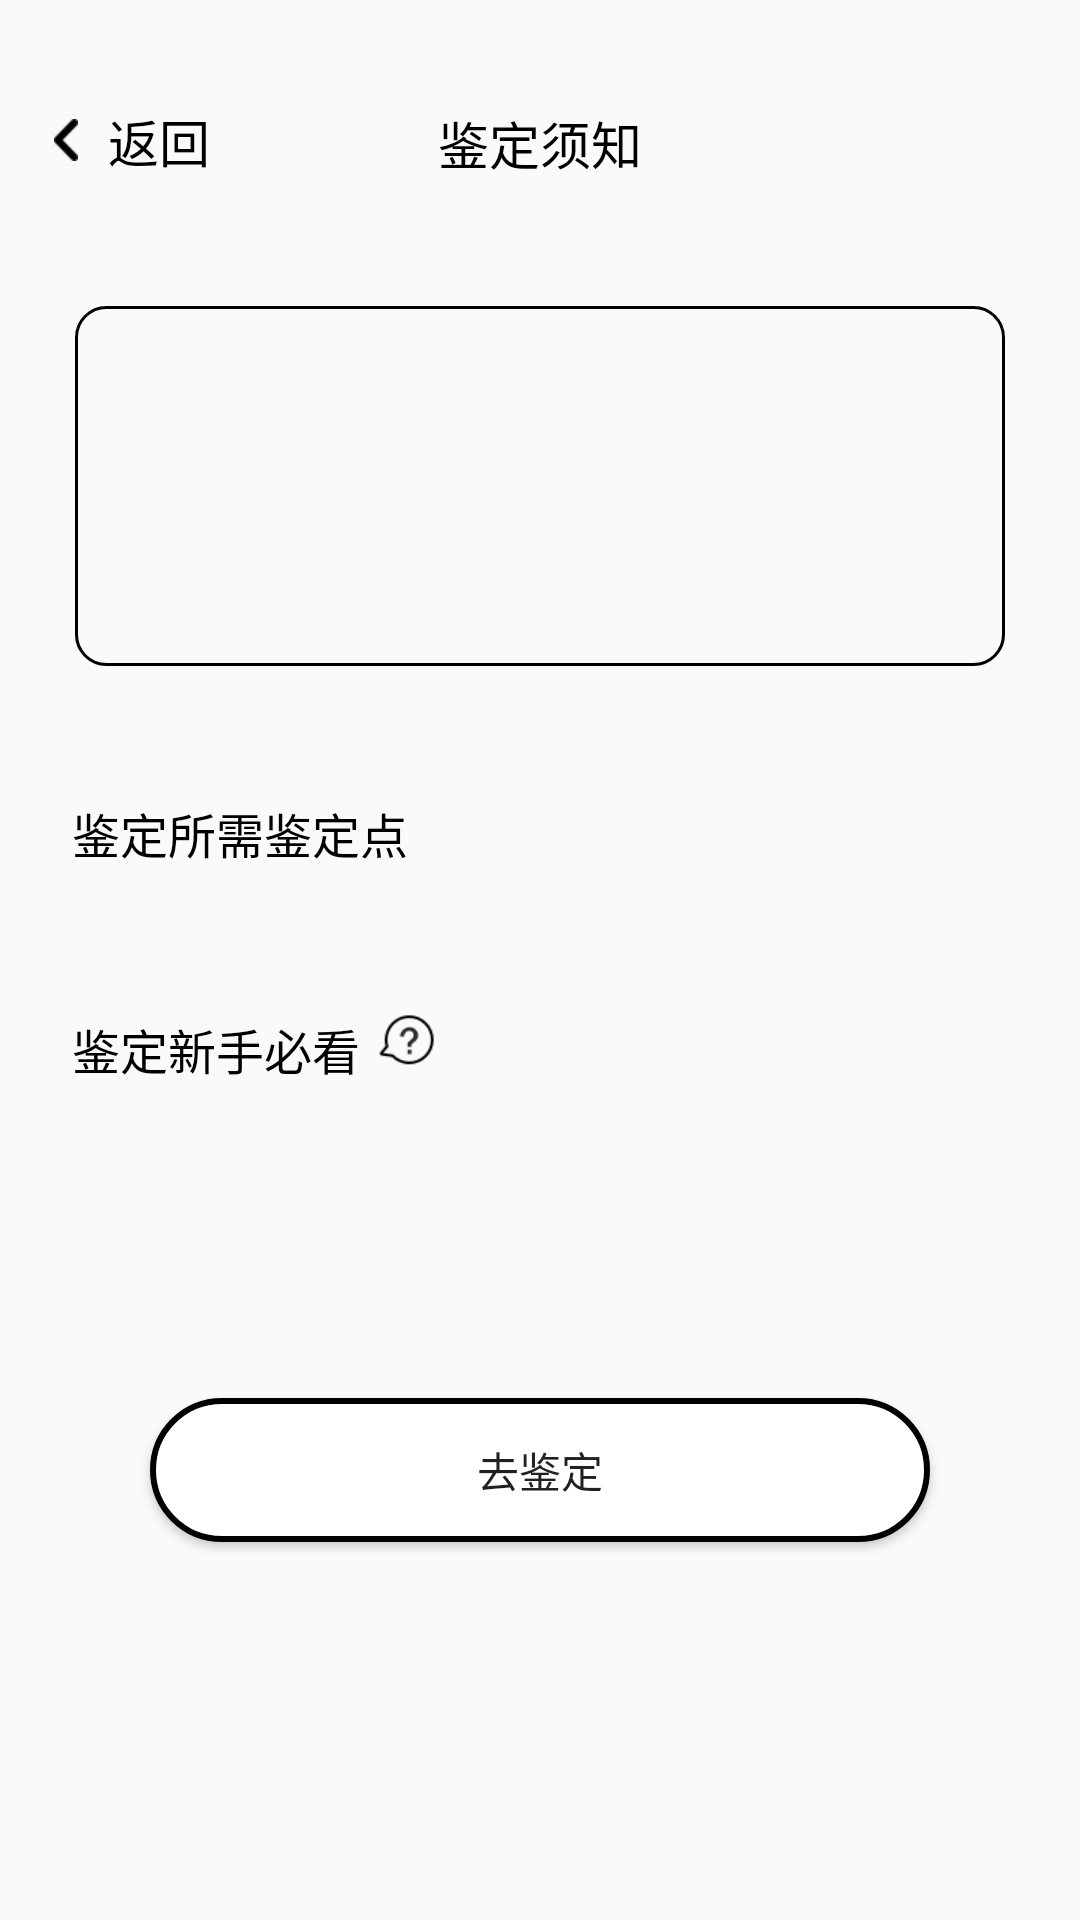

Where icons sit on this 1080px×1920px app screen, as (x1, y1, x2, y2):
backarrow: (54, 119, 78, 161)
